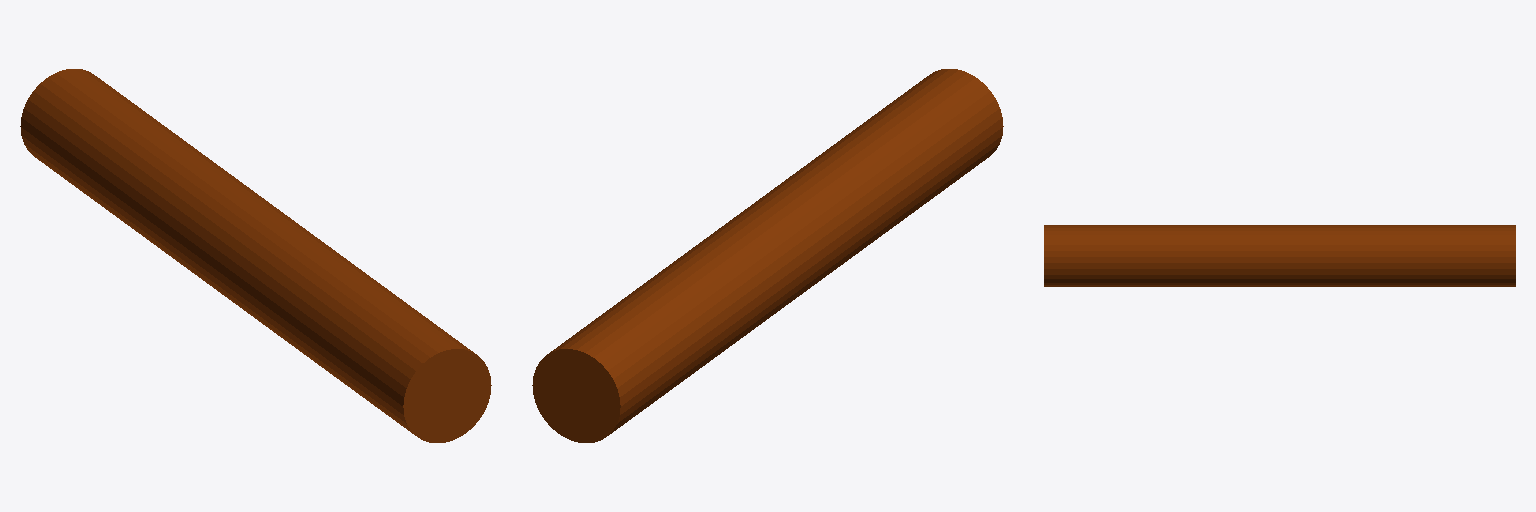
The robot description file, URDF, robot "cylinder":
<?xml version="1.0" ?>
<!-- =================================================================================== -->
<!-- |    This document was autogenerated by xacro from cylinder.xacro                 | -->
<!-- |    EDITING THIS FILE BY HAND IS NOT RECOMMENDED                                 | -->
<!-- =================================================================================== -->
<robot name="cylinder">
  <link name="world"/>
  <link name="base">
    <visual>
      <origin rpy="1.57079633 0 0" xyz="0 0 0"/>
      <geometry>
        <cylinder length="7.07106781185" radius="0.47"/>
      </geometry>
      <material name="cylinder_material">
        <color rgba="0.545 0.271 0.075 1.0"/>
        <texture filename="../textures/tree_bark.jpg"/>
      </material>
    </visual>
    <collision>
      <origin rpy="1.57079633 0 0" xyz="0 0 0"/>
      <geometry>
        <cylinder length="7.07106781185" radius="0.47"/>
      </geometry>
    </collision>
    <inertial>
      <origin rpy="0 0 0" xyz="0 0 0"/>
      <mass value="1"/>
      <inertia ixx="4.221891666648428" ixy="0.0" ixz="0.0" iyy="4.221891666648428" iyz="0.0" izz="24.999999999890573"/>
    </inertial>
  </link>
  <joint name="base_joint" type="fixed">
    <parent link="world"/>
    <child link="base"/>
    <origin rpy="0 0 0" xyz="0.0 0.0 0.0"/>
  </joint>
</robot>

--- What the picture shows (computed from the rendered views, not written in the file) ---
The picture shows the robot from 3 angles, left to right: view 1: azimuth 30°, elevation 25°; view 2: azimuth 150°, elevation 25°; view 3: azimuth 270°, elevation 25°; orthographic projection.
Model cylinder with 2 links and 1 joints (1 fixed), rooted at world, posed all joints at 0.
Visible links, largest first — view 1: base; view 2: base; view 3: base.
Link boxes in pixels (x1=…): base: x1=20, y1=69, x2=491, y2=442; base: x1=532, y1=69, x2=1003, y2=442; base: x1=1044, y1=225, x2=1515, y2=286.
Bounding box of the posed robot: 0.94 × 7.07 × 0.94 m (x, y, z).
Geometry: primitives only (box / cylinder / sphere), no mesh files.
